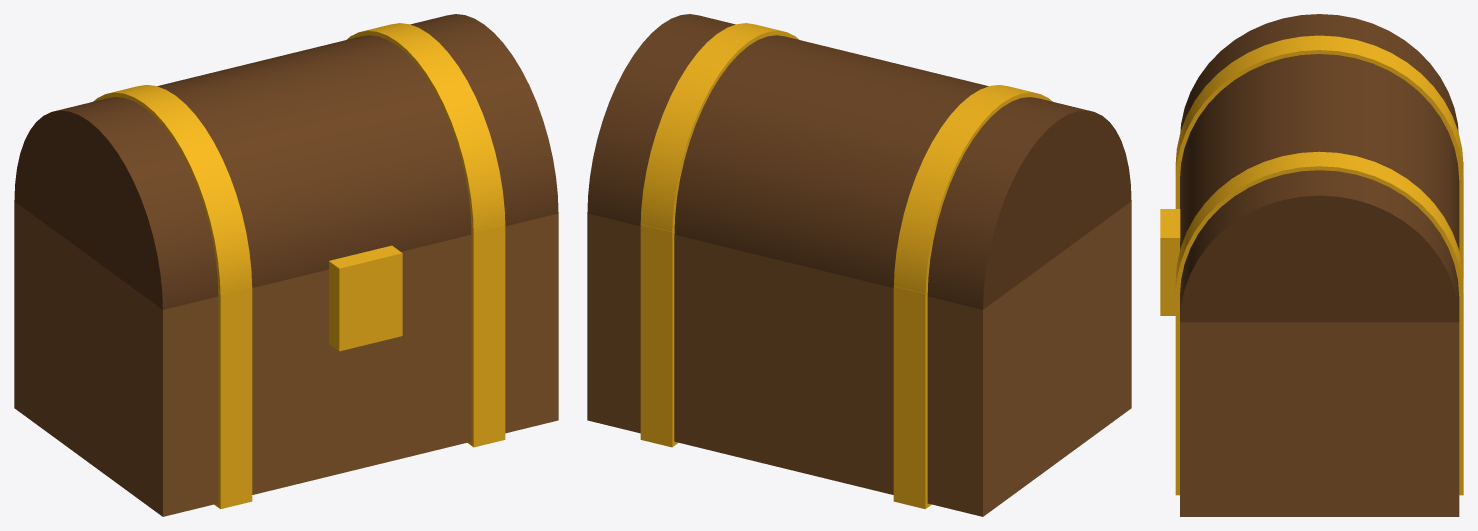
The model's file is chest.glb.
3 renders of one model, left to right at view 1: azimuth 30°, elevation 25°; view 2: azimuth 150°, elevation 25°; view 3: azimuth 270°, elevation 25°, orthographic. The views are drawn at different scales.
Bounding box in the file's own units: 1 × 0.845 × 0.705.
